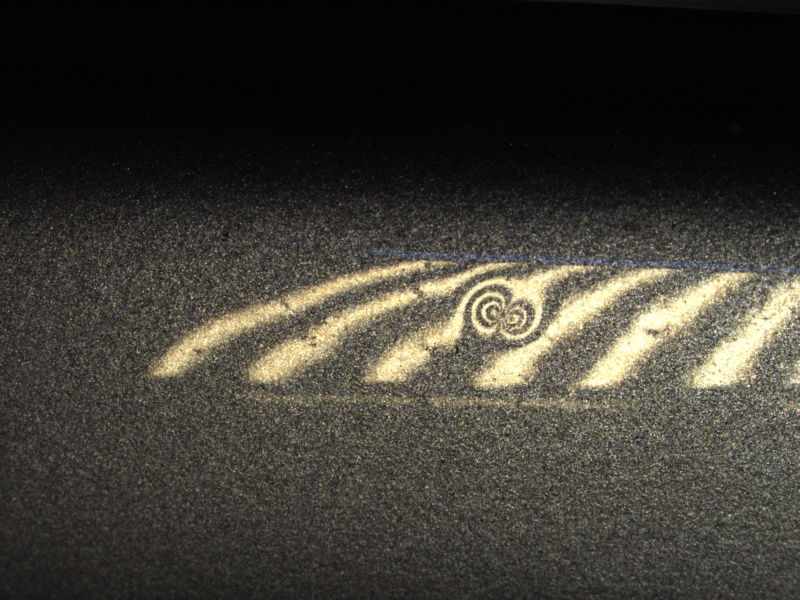bad: (461, 277, 557, 348)
